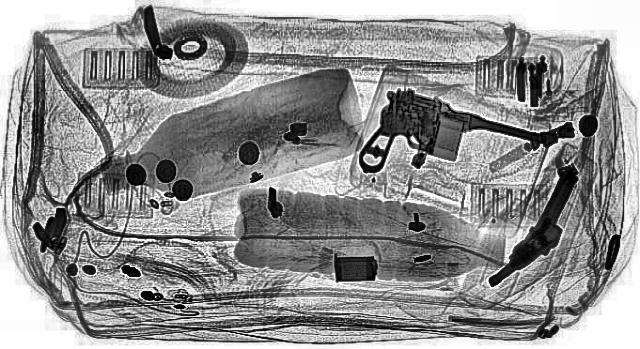Gun: (308, 84, 564, 206), (482, 162, 592, 292)
